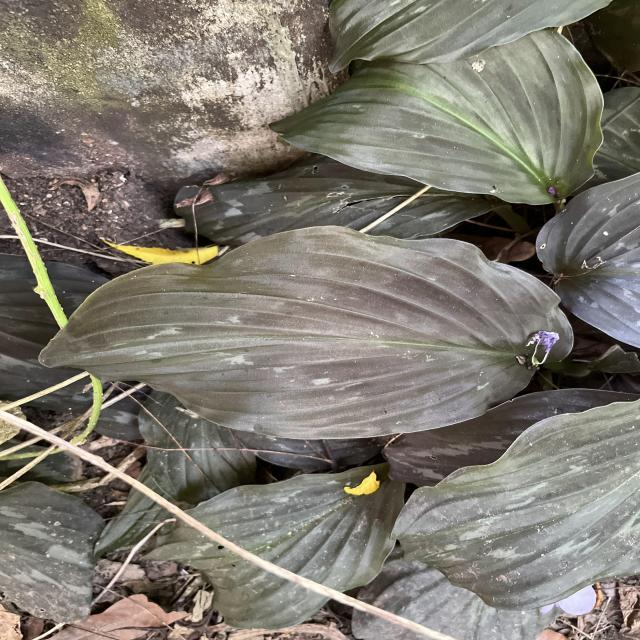Kaempferia galanga linn: (36, 222, 576, 442), (388, 394, 640, 614)
